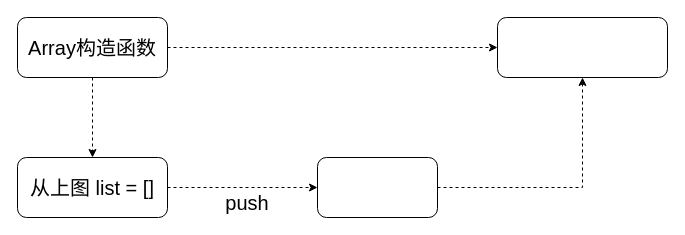
Image size: 685x235. Some labels were removed from this diagram. The centre of each missing label's shape, as x and y in pixels:
"Array.prototype" belongs at (x=582, y=47).
"拦截器" belongs at (x=377, y=187).
